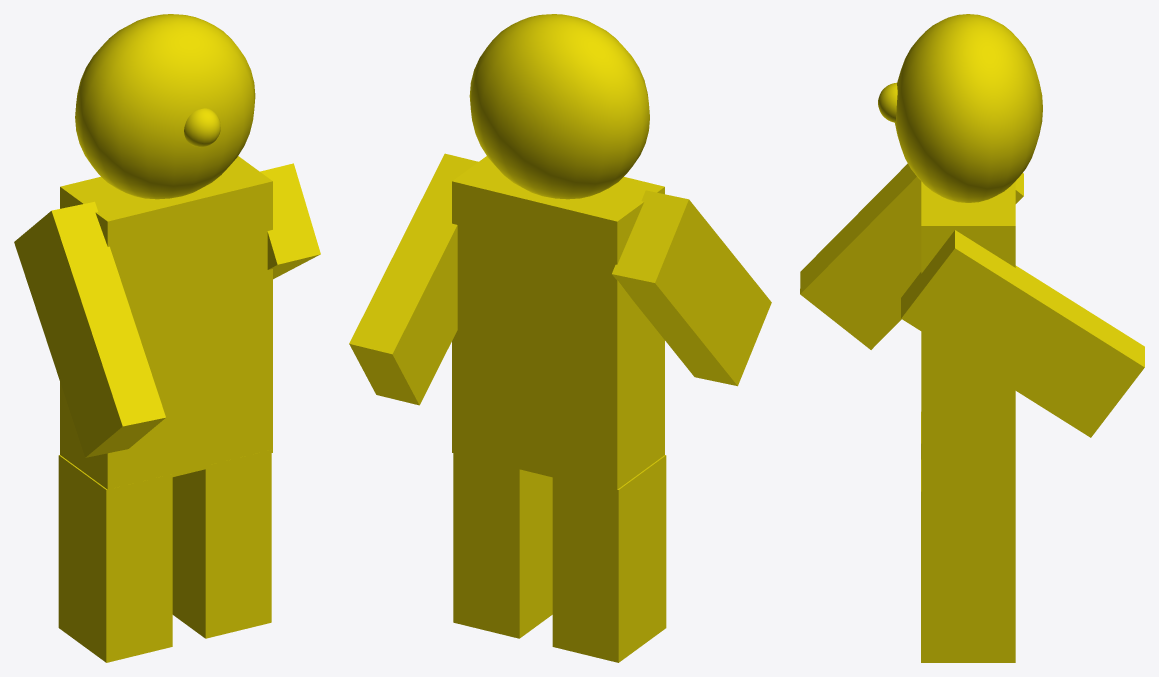
Rendered from Sample2.fbx.
3 renders of one model, left to right at view 1: azimuth 30°, elevation 25°; view 2: azimuth 150°, elevation 25°; view 3: azimuth 270°, elevation 25°, orthographic.
Parts seen in each view (by area): view 1: pSphere4; view 2: pSphere4; view 3: pSphere4.
Part boxes in pixels (left/top/right/bottom): pSphere4: left=14, top=14, right=320, bottom=662; pSphere4: left=349, top=14, right=771, bottom=662; pSphere4: left=800, top=14, right=1144, bottom=662.
Size of the model in its own units: 1.52 by 1.82 by 3.5.
